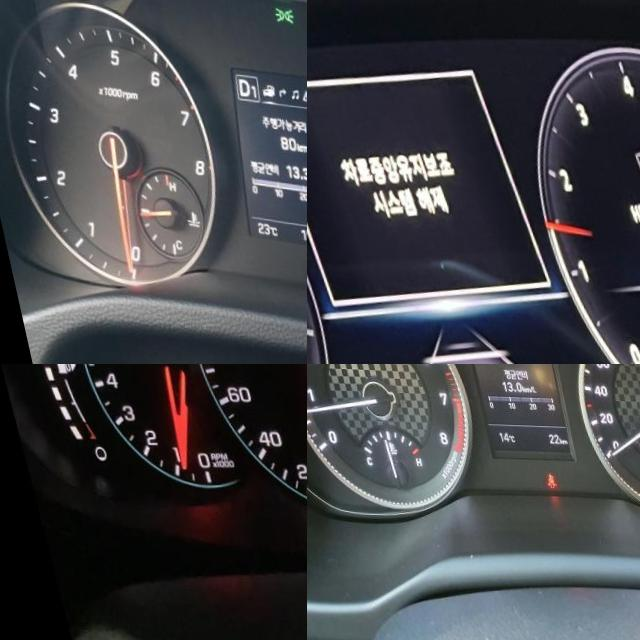SideLamp: (266, 1, 289, 21)
